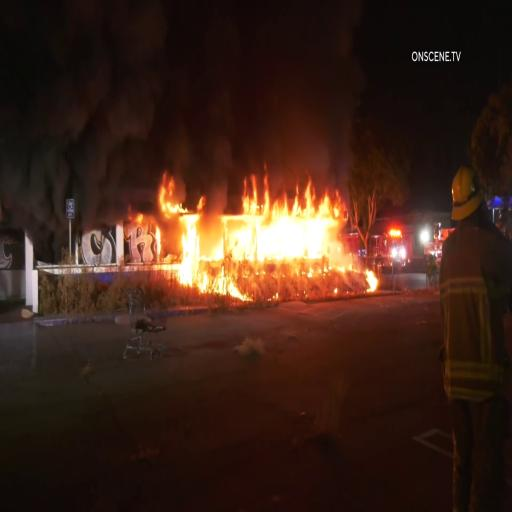fire: (228, 177, 345, 264), (153, 186, 206, 285)
smoke: (14, 13, 172, 187)
